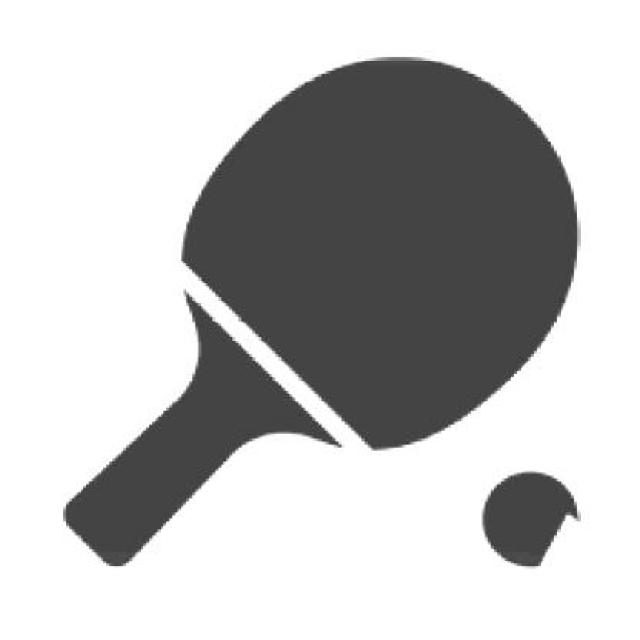table_tennis_racket: (173, 46, 582, 431)
